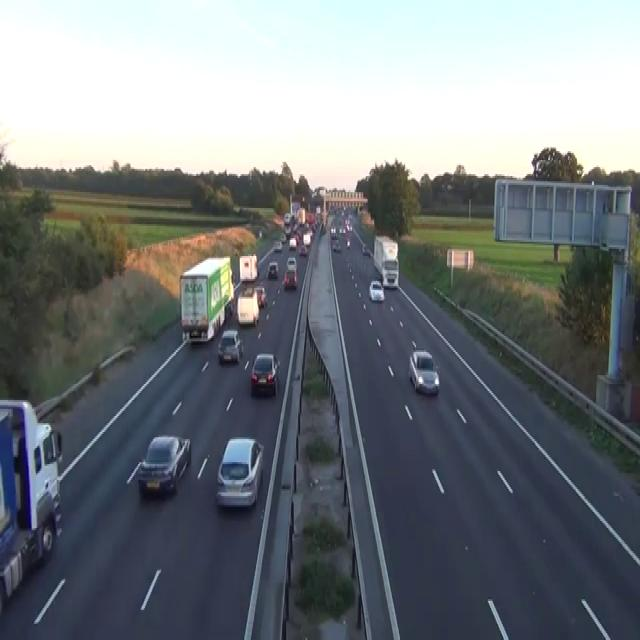Car: (215, 438, 264, 508), (137, 434, 191, 496), (408, 348, 439, 394), (250, 352, 280, 396), (217, 329, 243, 363), (330, 212, 352, 252), (368, 279, 384, 302), (254, 284, 267, 308), (282, 268, 297, 288), (267, 261, 278, 279), (286, 256, 297, 270), (441, 182, 455, 190), (288, 236, 296, 249), (273, 240, 282, 251), (299, 244, 307, 256), (283, 212, 291, 224), (303, 233, 311, 245), (319, 222, 326, 235), (332, 240, 340, 251), (307, 212, 314, 224), (345, 219, 352, 231), (361, 244, 369, 254), (330, 226, 336, 238), (280, 231, 286, 242), (446, 182, 454, 190), (339, 226, 345, 234), (258, 228, 262, 238), (346, 238, 350, 247)
Truck: (0, 398, 63, 614), (179, 254, 234, 343), (373, 235, 399, 288), (236, 286, 259, 327), (239, 252, 258, 282)
